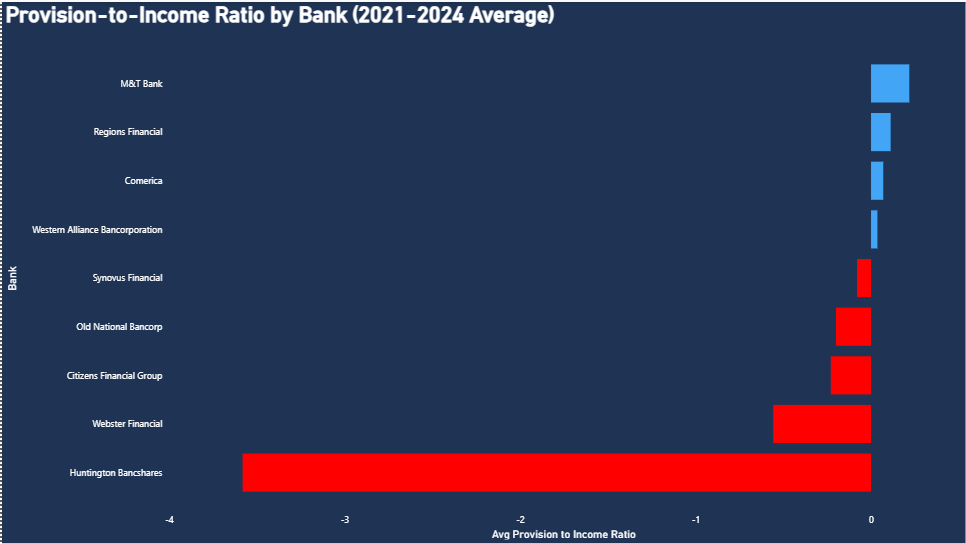

The page's visual inventory and layout, read from the dashboard file:
{"tool":"powerbi","page":{"name":"Page 4","canvas":[1280,720],"ordinal":3},"visuals":[{"type":"clusteredBarChart","title":"Provision-to-Income Ratio by Bank (2021-2024 Average)","fields":{"Category":["bank_risk_ratios.bank_name"],"Y":["Avg(bank_risk_ratios.provision_to_income_ratio)"]},"box":[0,0,1280,719.4],"z":0}]}

Visuals, with their boxes in screenshot pixels (x1, y1, x2, y2), scaled from the page's 1280x720 canvas onto the 966x544 screenshot:
"Provision-to-Income Ratio by Bank (2021-2024 Average)" clusteredBarChart: <region>0, 0, 965, 543</region>
